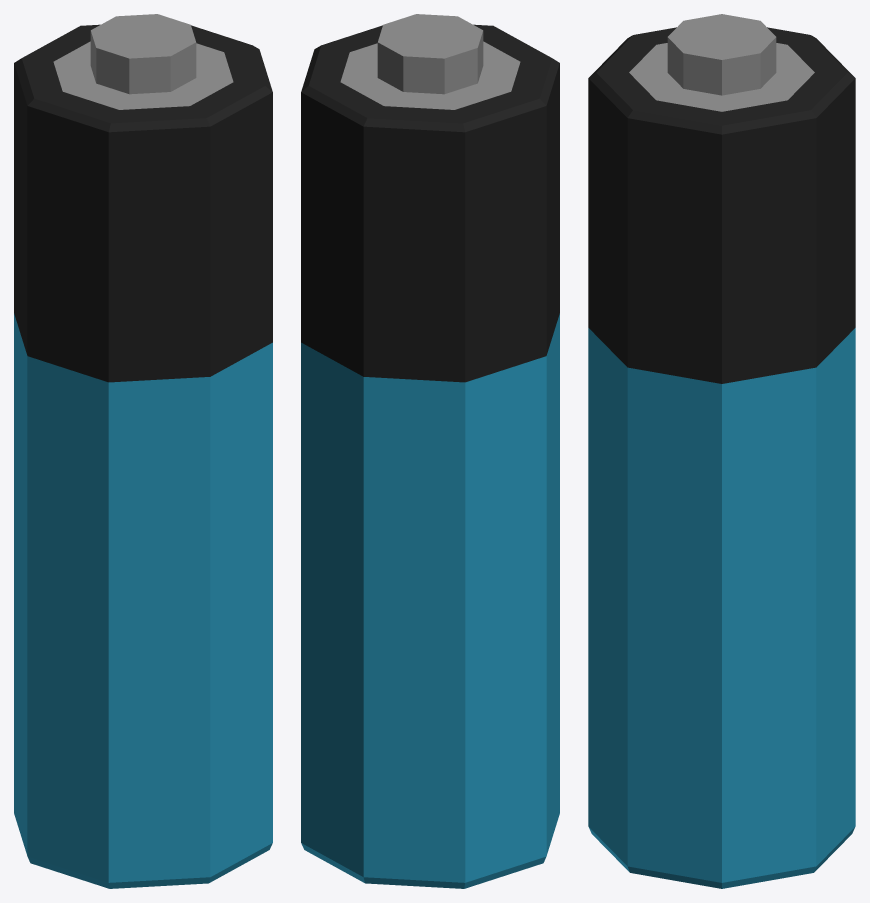
The model's file is Battery_2_vc.fbx.
3 renders of one model, left to right at view 1: azimuth 30°, elevation 25°; view 2: azimuth 150°, elevation 25°; view 3: azimuth 270°, elevation 25°, orthographic.
Visible parts, largest first — view 1: Battery_2_vc; view 2: Battery_2_vc; view 3: Battery_2_vc.
Part boxes in pixels (x1=…): Battery_2_vc: x1=14, y1=14, x2=272, y2=888; Battery_2_vc: x1=301, y1=14, x2=559, y2=888; Battery_2_vc: x1=588, y1=14, x2=855, y2=888.
Size of the model in its own units: 1.44 by 4.75 by 1.44.
